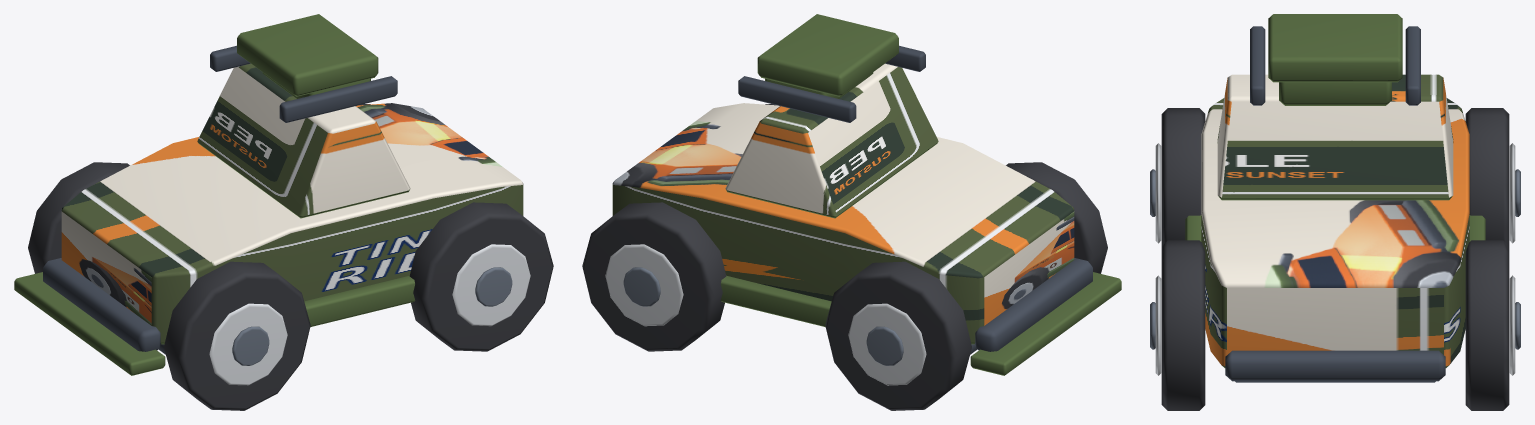
3 views of the same model, side by side, from view 1: azimuth 30°, elevation 25°; view 2: azimuth 150°, elevation 25°; view 3: azimuth 270°, elevation 25° (orthographic). The views are drawn at different scales.
Visible parts, largest first — view 1: DP-01_connected_shell, DP-01_cabin, Tire, Tire.002, utility load, custom chin, front bumper, Rim, Rim.002, Tire.001, custom side guard, utility rail (+3 smaller); view 2: DP-01_connected_shell, DP-01_cabin, Tire.001, Tire.003, utility load, custom chin, front bumper, Rim.001, Rim.003, Tire, custom side guard.001, utility rail.001 (+3 smaller); view 3: DP-01_connected_shell, DP-01_cabin, utility load, Tire.002, Tire.003, rear bumper, Tire, Tire.001, custom equipment, utility rail, utility rail.001, Rim (+6 smaller).
Boxes of the visible parts, x1,y1,x2,y2 form: DP-01_connected_shell: (61, 103, 523, 344); DP-01_cabin: (197, 63, 410, 218); Tire: (164, 261, 310, 410); Tire.002: (409, 202, 553, 351); utility load: (237, 14, 378, 96); custom chin: (14, 272, 165, 375); front bumper: (43, 258, 161, 351); Rim: (209, 303, 287, 385); Rim.002: (452, 244, 530, 326); Tire.001: (28, 162, 129, 273); custom side guard: (304, 275, 415, 326); utility rail: (279, 76, 397, 122); DP-01_connected_shell: (612, 103, 1074, 344); DP-01_cabin: (725, 63, 938, 218); Tire.001: (825, 261, 971, 410); Tire.003: (582, 202, 726, 351); utility load: (757, 14, 898, 96); custom chin: (970, 272, 1121, 375); front bumper: (974, 258, 1092, 351); Rim.001: (848, 303, 926, 385); Rim.003: (605, 244, 683, 326); Tire: (1006, 162, 1107, 273); custom side guard.001: (720, 275, 831, 326); utility rail.001: (738, 76, 856, 122); DP-01_connected_shell: (1201, 98, 1469, 367); DP-01_cabin: (1217, 74, 1453, 200); utility load: (1268, 14, 1402, 82); Tire.002: (1161, 240, 1205, 410); Tire.003: (1465, 240, 1509, 410); rear bumper: (1225, 350, 1445, 381); Tire: (1161, 108, 1205, 246); Tire.001: (1465, 108, 1509, 246); custom equipment: (1279, 82, 1391, 105); utility rail: (1250, 26, 1265, 105); utility rail.001: (1405, 26, 1420, 105); Rim: (1155, 143, 1161, 243).
Bounding box in the file's own units: 320 × 205 × 221.
